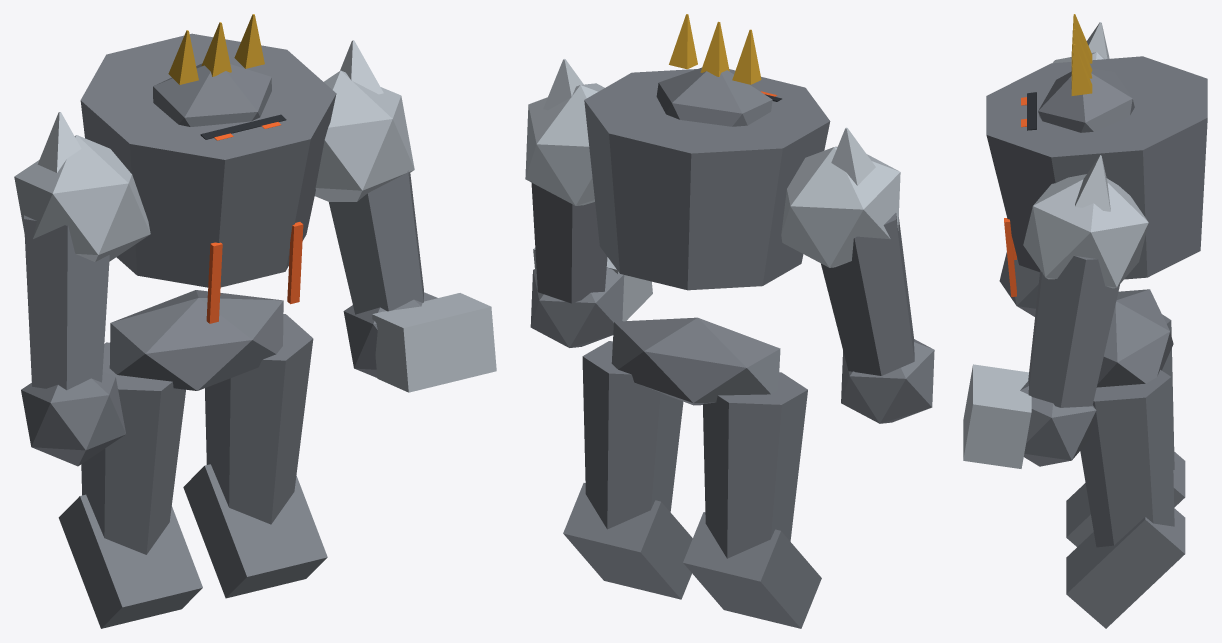
File: npcpose_colossus_attack_03.glb
3 views of the same model, side by side, from view 1: azimuth 30°, elevation 25°; view 2: azimuth 150°, elevation 25°; view 3: azimuth 270°, elevation 25° (orthographic). The views are drawn at different scales.
Visible parts, largest first — view 1: npcpose; view 2: npcpose; view 3: npcpose.
Boxes of the visible parts, bbox=[...] form: npcpose: bbox=[14, 14, 496, 628]; npcpose: bbox=[525, 14, 934, 628]; npcpose: bbox=[963, 14, 1207, 628].
Bounding box in the file's own units: 2.3 × 3.09 × 1.24.
